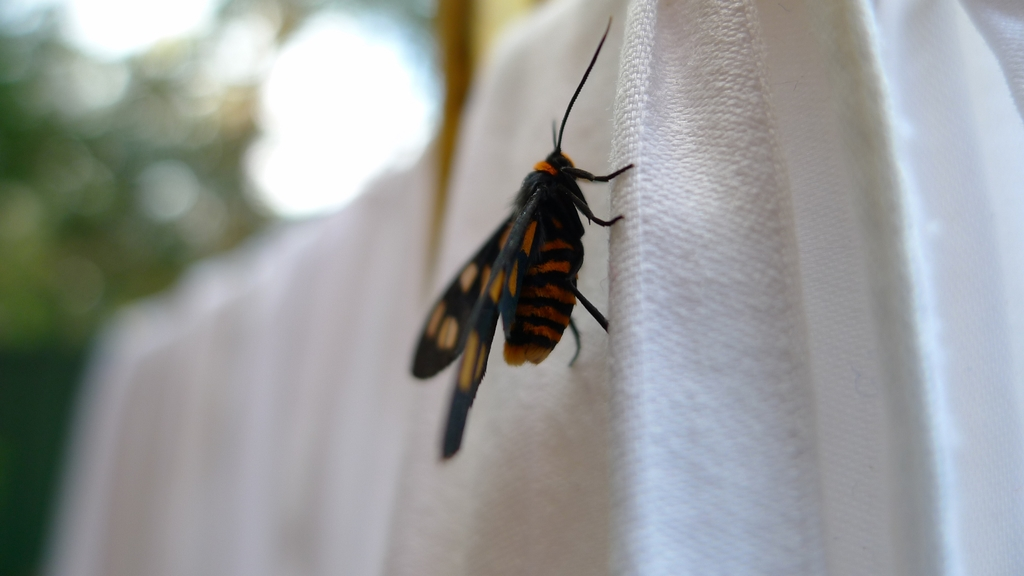Butterfly: (404, 93, 647, 412)
